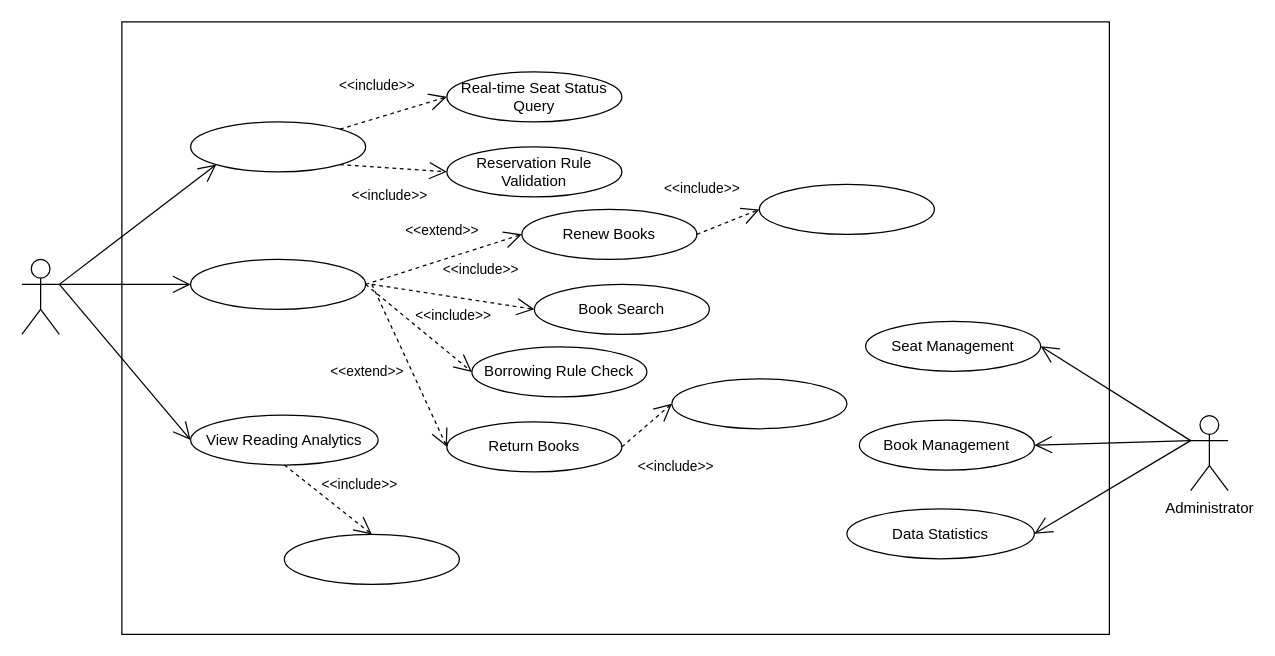
Some shapes in this 1275 by 656 pixel diagram are drawn without their labels. Here are the shapes that lost their labels. From the top down, the centre of each, then its label:
At [277,146]: "Reserve Study Space".
At [846,208]: "Renewal Condition Validation".
At [40,296]: "User".
At [277,283]: "Borrow Books".
At [759,403]: "Return Policy Validation".
At [371,558]: "Reading Data Visualization".
